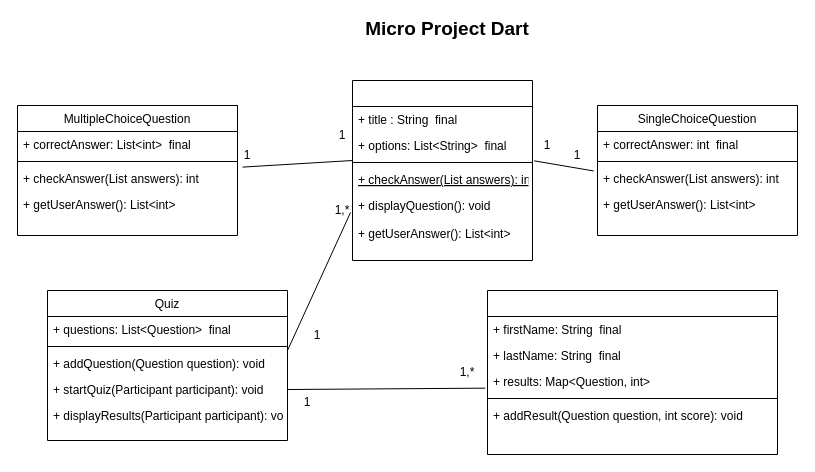
This 815x472 diagram has some shape labels left out. The box of each missing label's shape, as (x1, y1, x2, y2) in pixels:
Participant: (486, 290, 778, 454)
Question (abstract): (352, 80, 532, 260)
